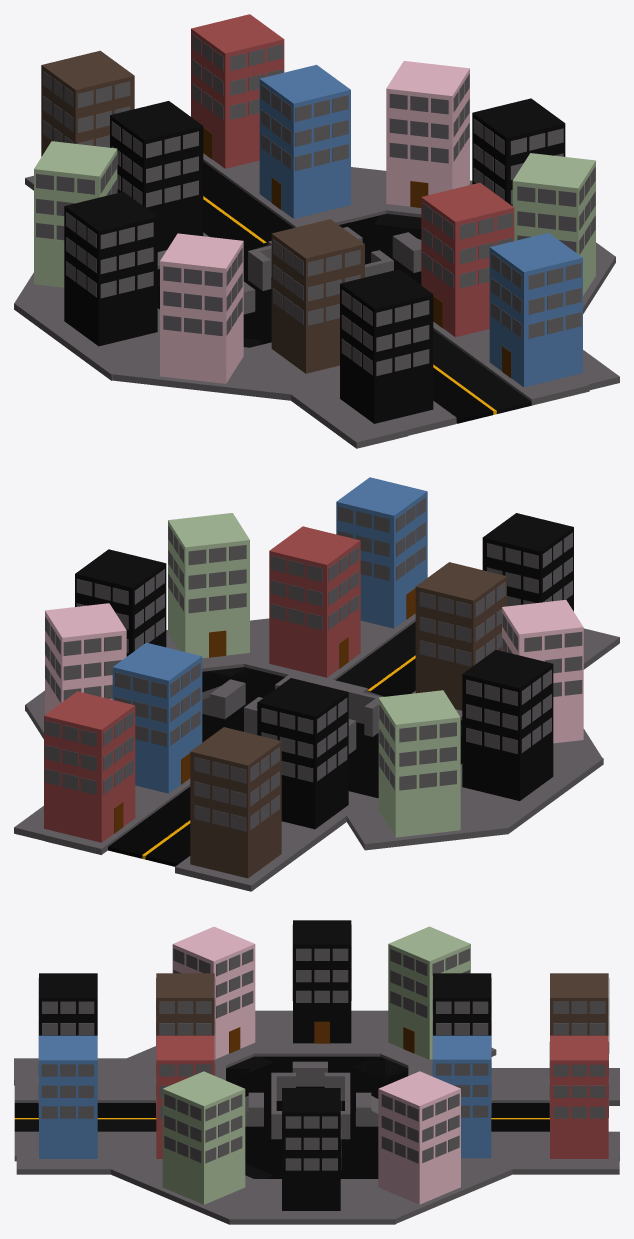
Rendered from CITY MESH.fbx.
3 renders of one model, top to bottom at view 1: azimuth 30°, elevation 25°; view 2: azimuth 150°, elevation 25°; view 3: azimuth 270°, elevation 25°, orthographic. The views are drawn at different scales.
Visible parts, largest first — view 1: city; view 2: city; view 3: city.
Boxes of the visible parts, bbox=[...] form: city: bbox=[14, 14, 619, 448]; city: bbox=[14, 477, 619, 891]; city: bbox=[14, 920, 619, 1224].
Size of the model in its own units: 14073 by 3954 by 17260.
